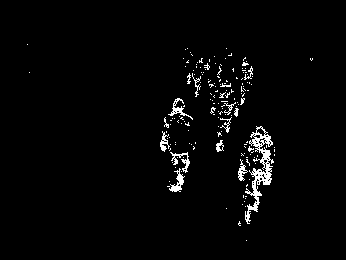person: (159, 97, 196, 193), (237, 127, 274, 214), (212, 77, 237, 150), (239, 56, 254, 106)
